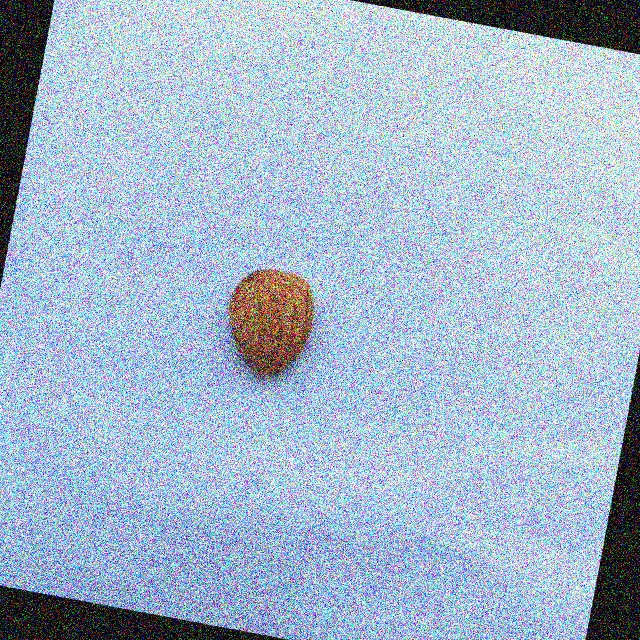grade1: (210, 254, 332, 393)
